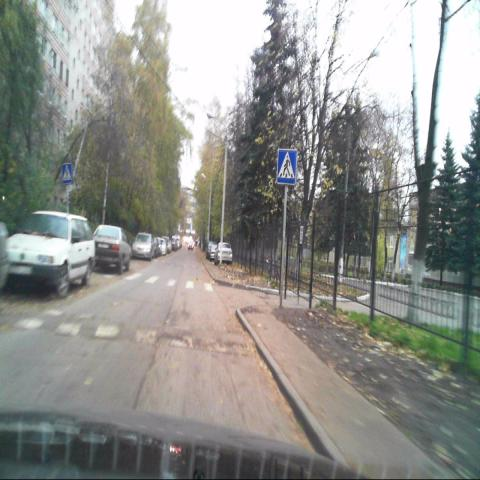5_19_1: (277, 150, 296, 184), (61, 163, 71, 183)
